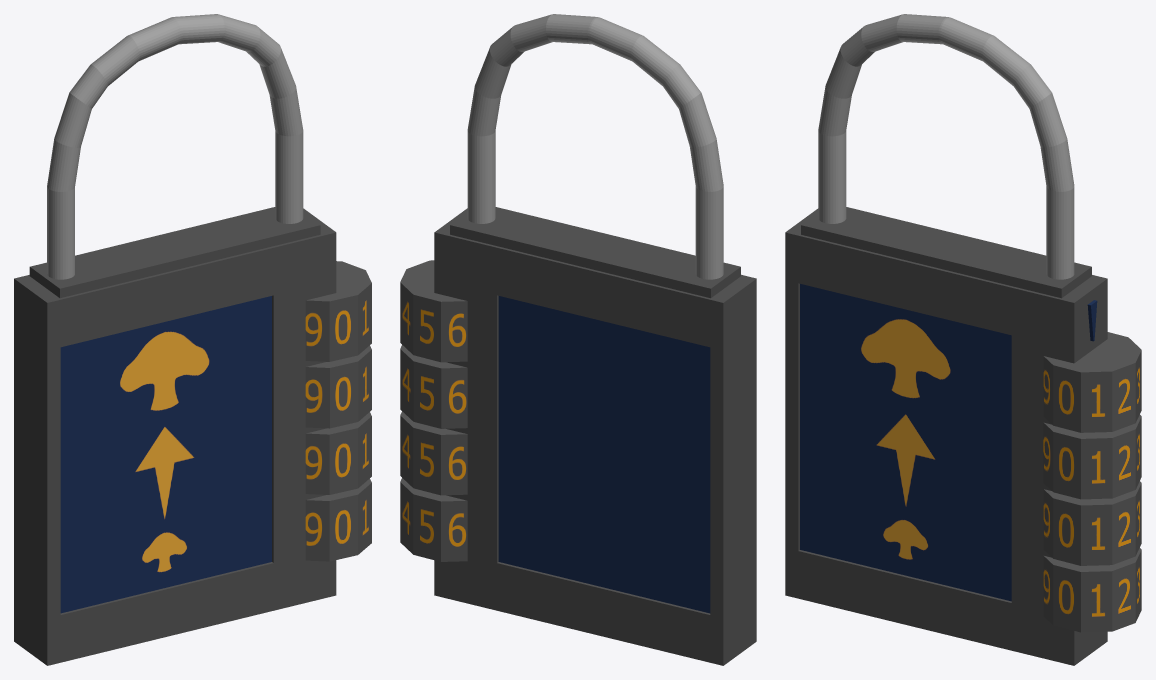
The model's file is padlock.fbx.
3 views of the same model, side by side, from view 1: azimuth 30°, elevation 25°; view 2: azimuth 150°, elevation 25°; view 3: azimuth 330°, elevation 25° (orthographic).
Visible parts, largest first — view 1: lock, shackle, dial1, dial4, dial3, dial2; view 2: lock, shackle, dial1, dial4, dial2, dial3; view 3: lock, shackle, dial1, dial3, dial2, dial4.
Part boxes in pixels (left/top/right/bottom): lock: left=14, top=207, right=336, bottom=665; shackle: left=47, top=14, right=303, bottom=279; dial1: left=305, top=261, right=371, bottom=361; dial4: left=305, top=478, right=371, bottom=561; dial3: left=305, top=412, right=371, bottom=494; dial2: left=305, top=345, right=371, bottom=428; lock: left=434, top=207, right=756, bottom=665; shackle: left=467, top=14, right=723, bottom=279; dial1: left=400, top=260, right=467, bottom=362; dial4: left=400, top=478, right=467, bottom=561; dial2: left=400, top=345, right=467, bottom=428; dial3: left=400, top=411, right=467, bottom=495; lock: left=785, top=207, right=1107, bottom=665; shackle: left=818, top=14, right=1074, bottom=279; dial1: left=1043, top=332, right=1141, bottom=432; dial3: left=1043, top=481, right=1141, bottom=565; dial2: left=1043, top=414, right=1141, bottom=499; dial4: left=1043, top=548, right=1141, bottom=632.
Bounding box in the file's own units: 5.78 × 9.92 × 1.45.
